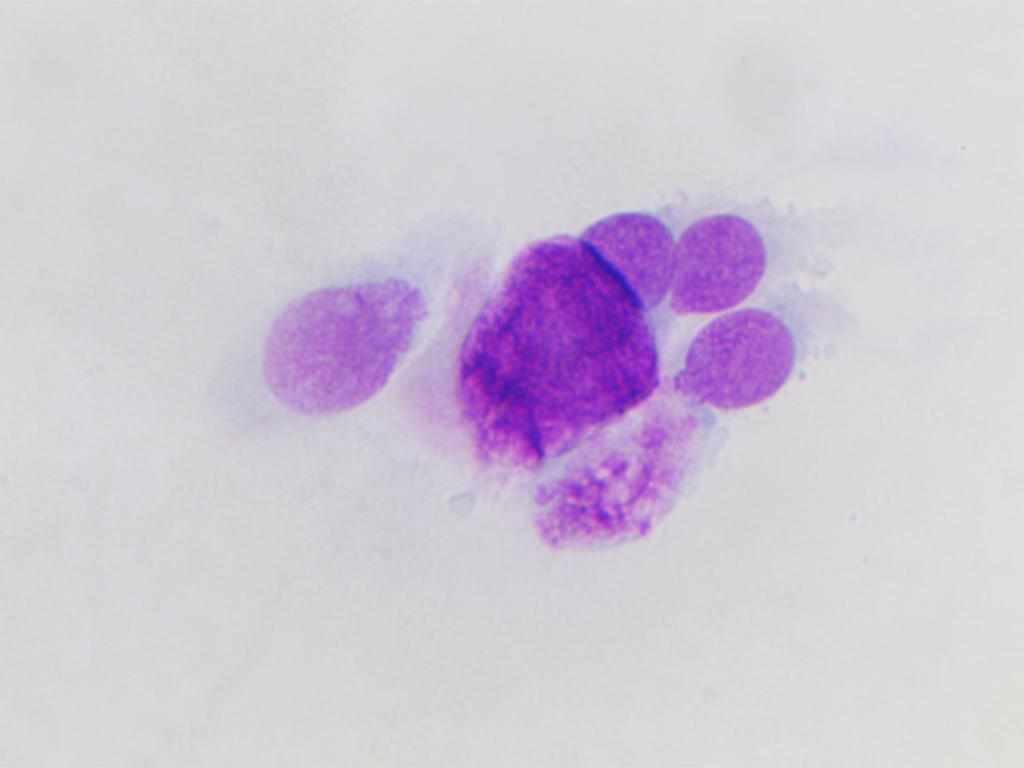epithelial: (253, 288, 412, 430), (660, 208, 794, 312), (692, 308, 803, 425)
goblet_cell: (430, 197, 676, 455)
